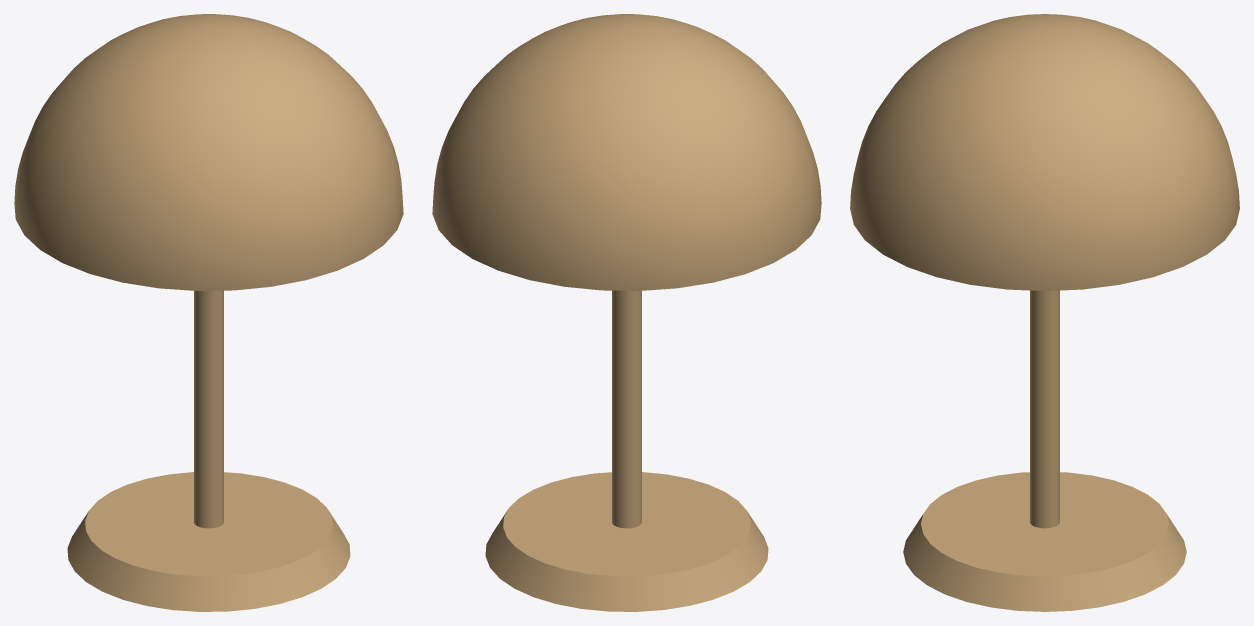
The model's file is lamp.glb.
The picture shows the model from 3 angles, left to right: view 1: azimuth 30°, elevation 25°; view 2: azimuth 150°, elevation 25°; view 3: azimuth 270°, elevation 25°; orthographic projection.
Bounding box in the file's own units: 0.44 × 0.6475 × 0.44.
